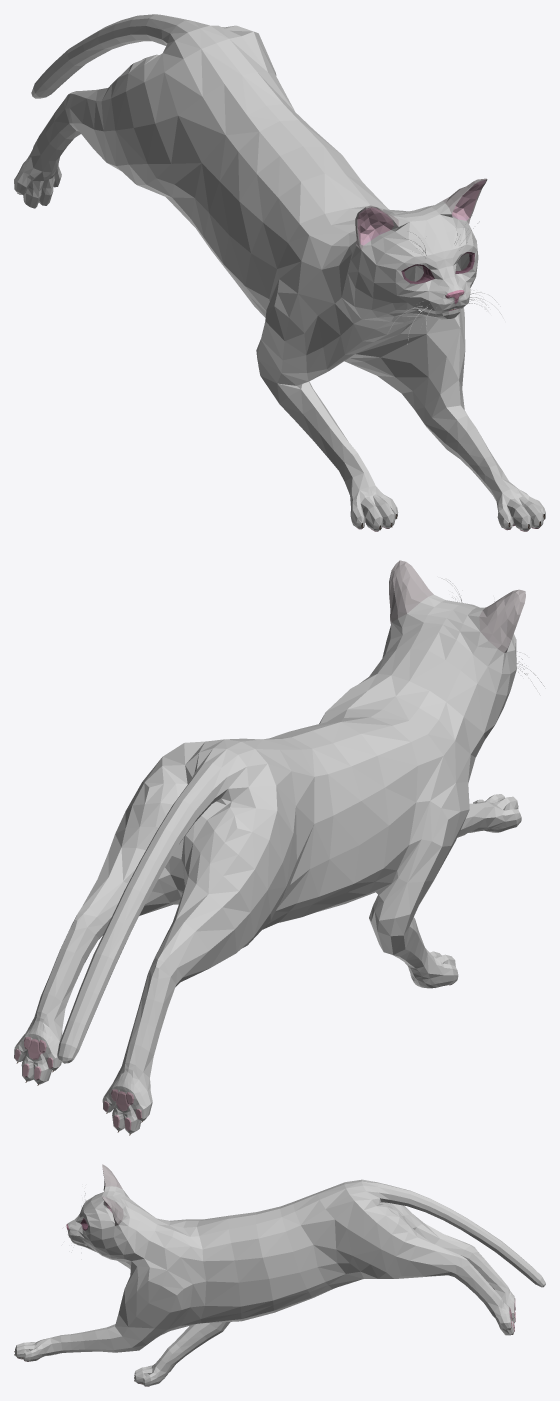
Rendered from Run_F_04.glb.
The picture shows the model from 3 angles, top to bottom: view 1: azimuth 30°, elevation 25°; view 2: azimuth 150°, elevation 25°; view 3: azimuth 270°, elevation 25°; orthographic projection. The views are drawn at different scales.
Visible parts, largest first — view 1: Run_F_04; view 2: Run_F_04; view 3: Run_F_04.
Boxes of the visible parts, x1=… form: Run_F_04: x1=14, y1=14, x2=545, y2=531; Run_F_04: x1=14, y1=560, x2=544, y2=1135; Run_F_04: x1=14, y1=1164, x2=545, y2=1386.
Bounding box in the file's own units: 0.1458 × 0.3346 × 0.7899.
Materials: 1 (1 with a texture image).
